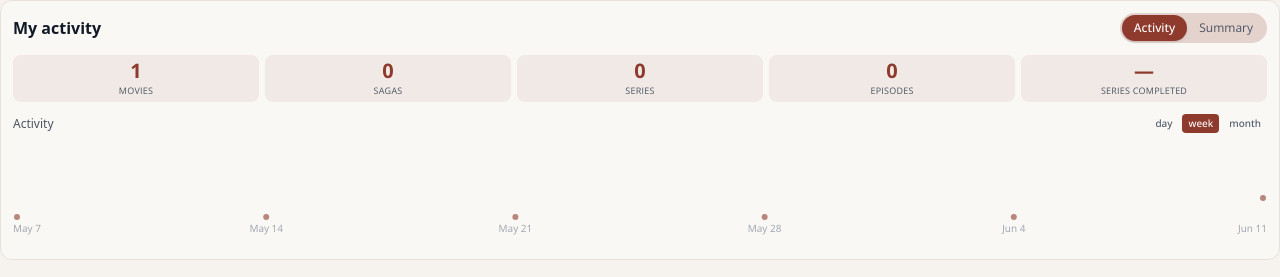
Test: StatsCard — guest Gustos tab › Tastes tab shows decade chart when movies exist
Click the button "Summary" at (1226, 28), box [1187, 15, 1265, 41]
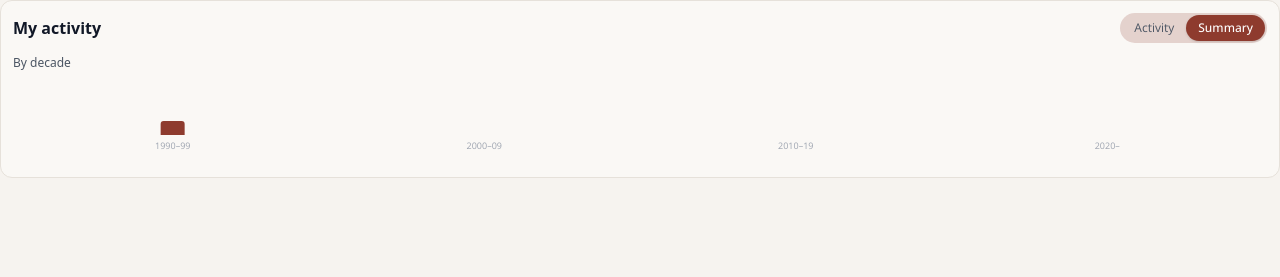
Check: the text "By decade" is shown, box [13, 54, 71, 71]
